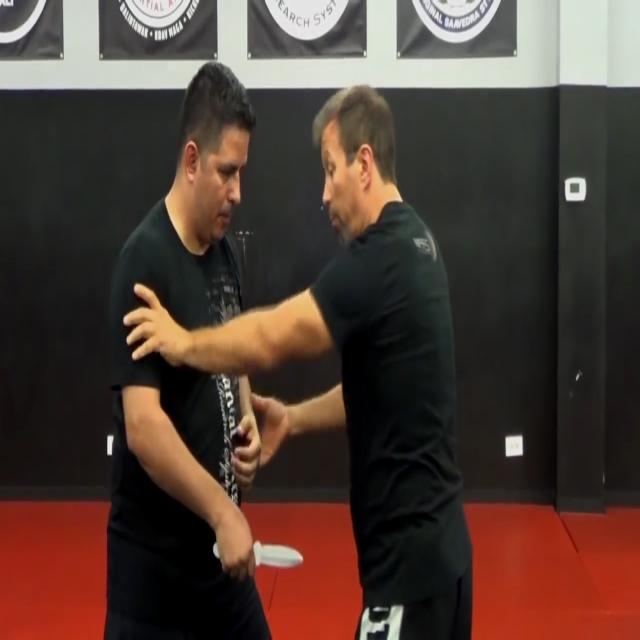knife: (254, 539, 307, 576)
